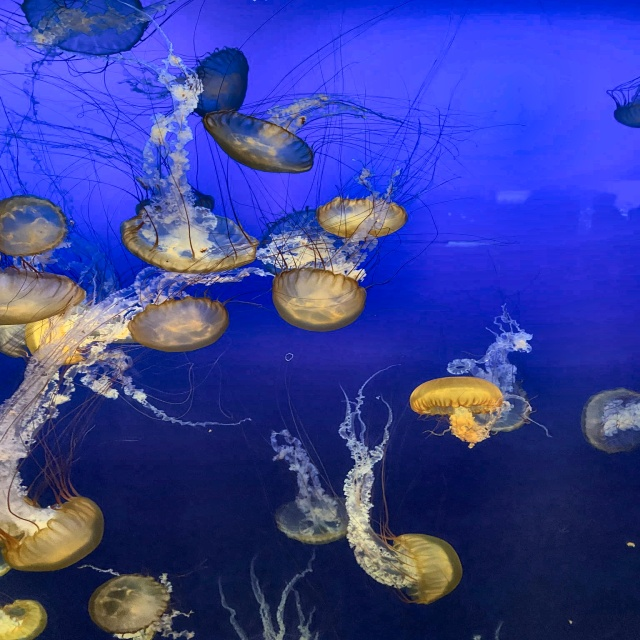jellyfish: (122, 207, 260, 273), (2, 497, 105, 572), (204, 110, 312, 173), (23, 0, 144, 56), (270, 269, 366, 333), (128, 298, 229, 353), (0, 267, 87, 326), (396, 533, 463, 605), (186, 45, 250, 118), (92, 573, 168, 632), (0, 195, 70, 258), (318, 198, 408, 240), (410, 377, 504, 417), (275, 499, 356, 545), (585, 389, 639, 454), (0, 598, 48, 639), (614, 99, 639, 128)
